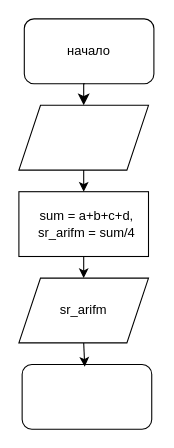
Image size: 174x448. Some labels were removed from this diagram. Here are the shapes that lost their labels. From the top down, the centre of each, then its label:
point 83,137: a, b, c, d
point 86,396: конец
